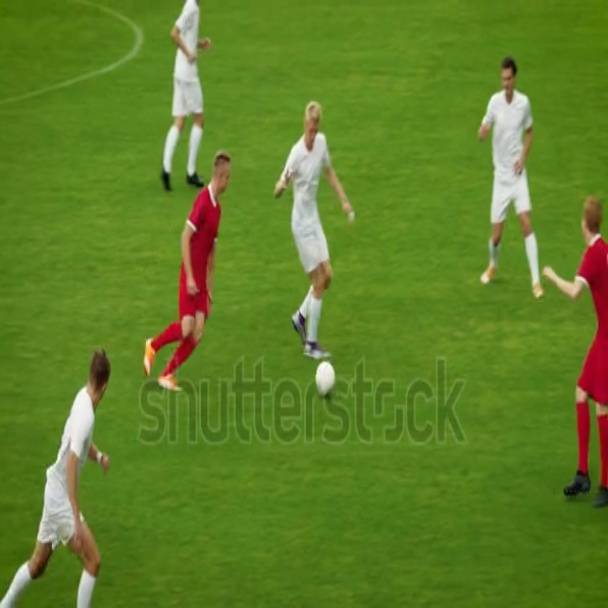ball: (310, 357, 339, 402)
